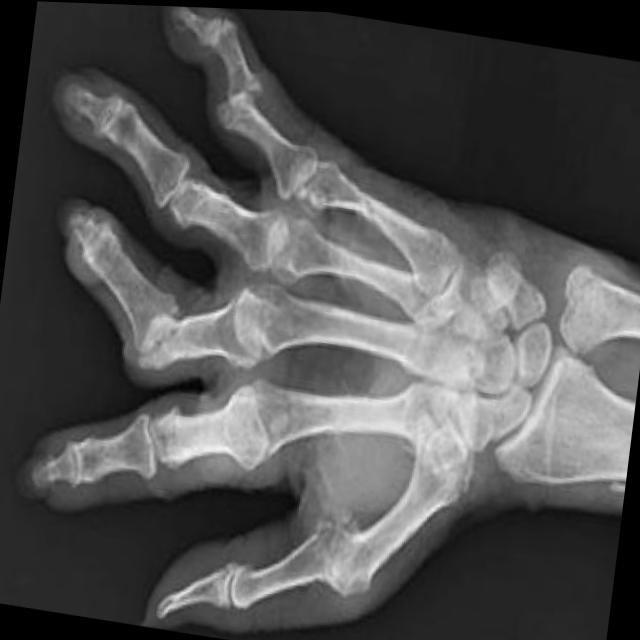fracture: (124, 284, 190, 378), (207, 68, 268, 131)
